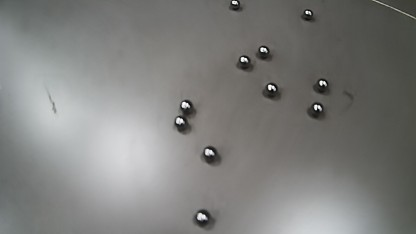ironball: (202, 146, 218, 164), (194, 209, 210, 226), (264, 82, 278, 97), (174, 115, 187, 131), (180, 99, 193, 114), (315, 78, 328, 93), (310, 102, 323, 117), (237, 55, 250, 69), (257, 45, 269, 59), (302, 9, 313, 20), (230, 0, 240, 10)
